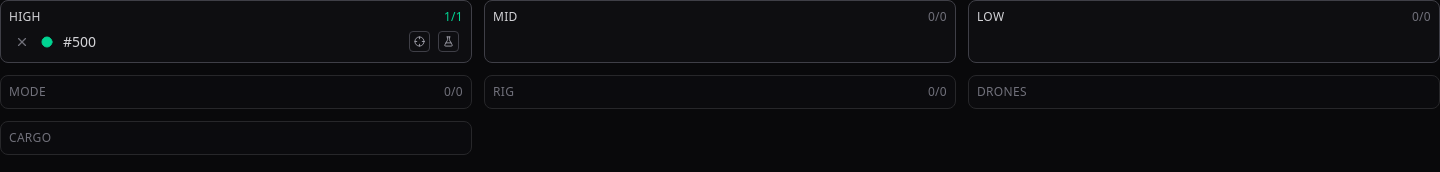
SlotGrid module state icon › cycles backwards on shift-click
This screenshot has width=1440, height=172.
What coordinates should you click on to do the following:
click the button named "module state: active"
I would click on:
 (47, 42)
Its box is [39,34,55,50].
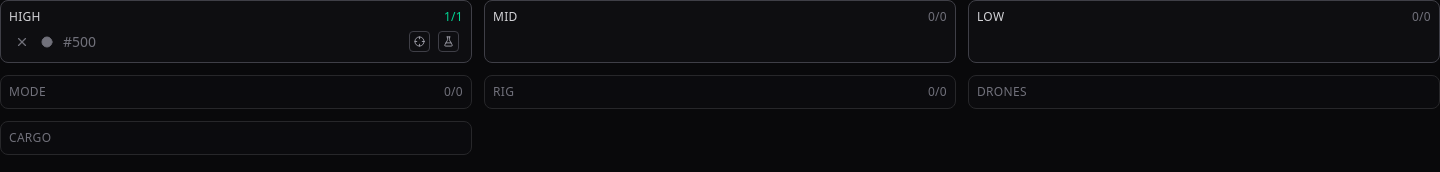
Expected: the button named "module state: offline" is shown, [39,34,55,50]
